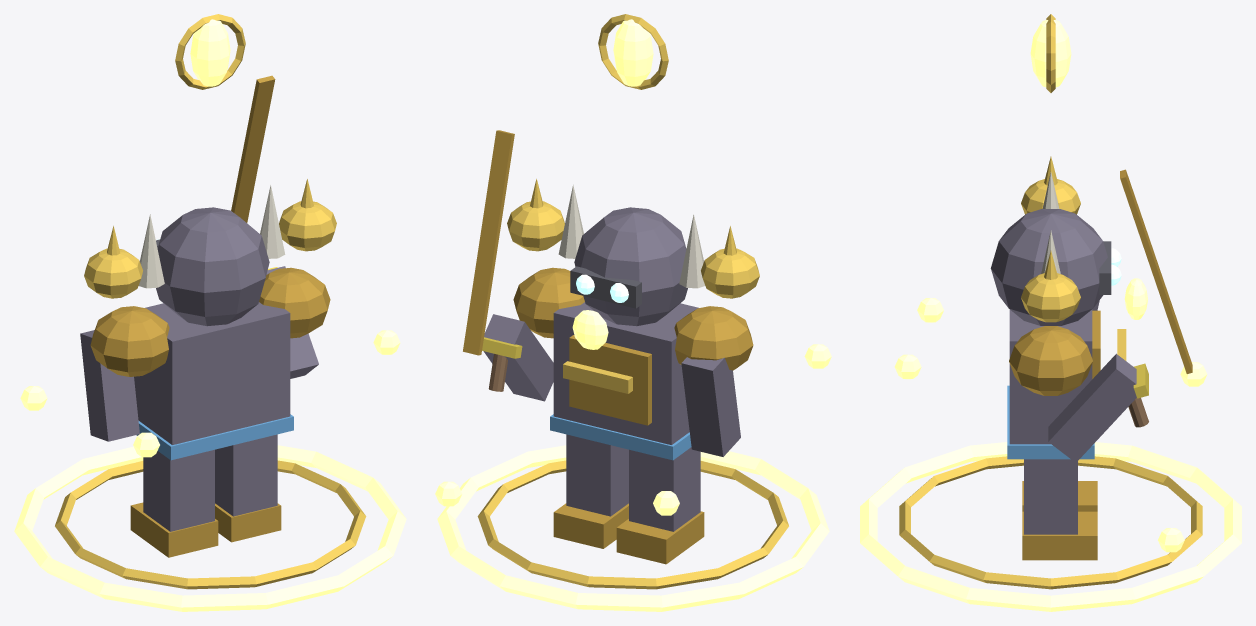
File: hero_mini_pekka.glb
3 views of the same model, side by side, from view 1: azimuth 30°, elevation 25°; view 2: azimuth 150°, elevation 25°; view 3: azimuth 270°, elevation 25° (orthographic).
Parts seen in each view (by area): view 1: hero_mini_pekka; view 2: hero_mini_pekka; view 3: hero_mini_pekka.
Part boxes in pixels (x1,y1,x2,y2): hero_mini_pekka: (14,14,406,611); hero_mini_pekka: (435,14,831,611); hero_mini_pekka: (860,14,1241,611).
Bounding box in the file's own units: 2.91 × 4.23 × 2.84.
